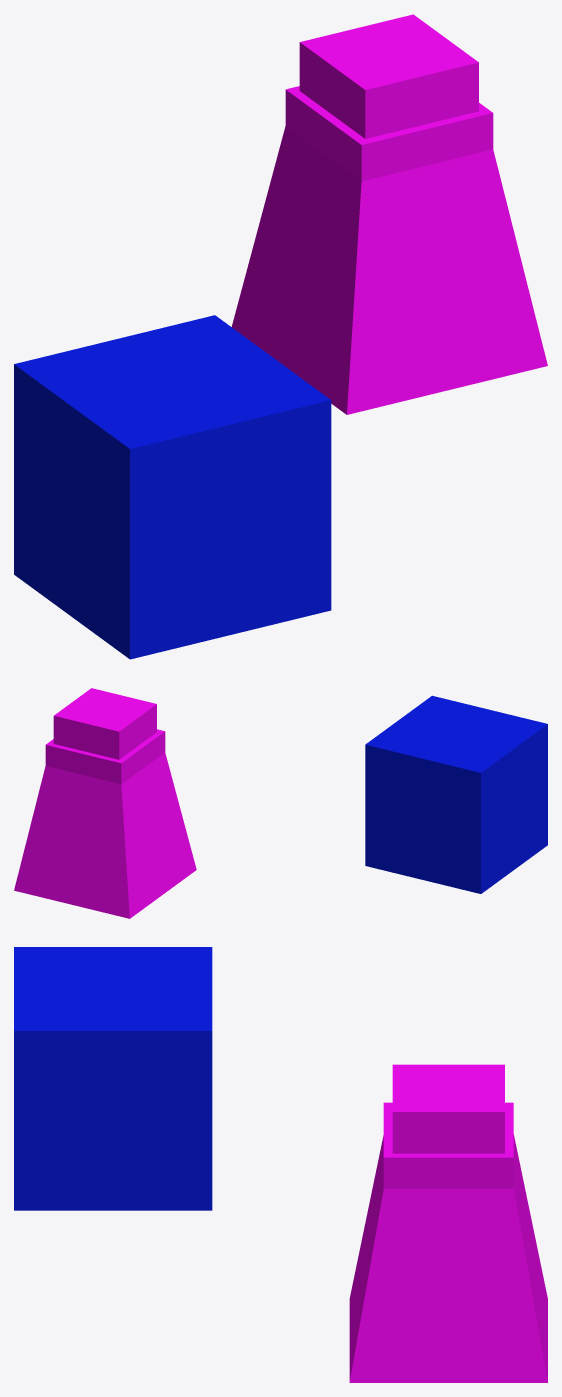
The picture shows the model from 3 angles, top to bottom: view 1: azimuth 30°, elevation 25°; view 2: azimuth 150°, elevation 25°; view 3: azimuth 270°, elevation 25°; orthographic projection. The views are drawn at different scales.
Visible parts, largest first — view 1: Cube, Cube.001; view 2: Cube, Cube.001; view 3: Cube, Cube.001.
Boxes of the visible parts, x1,y1,x2,y2 form: Cube: (14, 315, 331, 659); Cube.001: (231, 14, 547, 414); Cube: (365, 695, 547, 893); Cube.001: (14, 688, 196, 918); Cube: (14, 947, 212, 1210); Cube.001: (349, 1064, 547, 1382).
Size of what is drawn, in the model's own units: 6.11 by 2.81 by 5.38.
